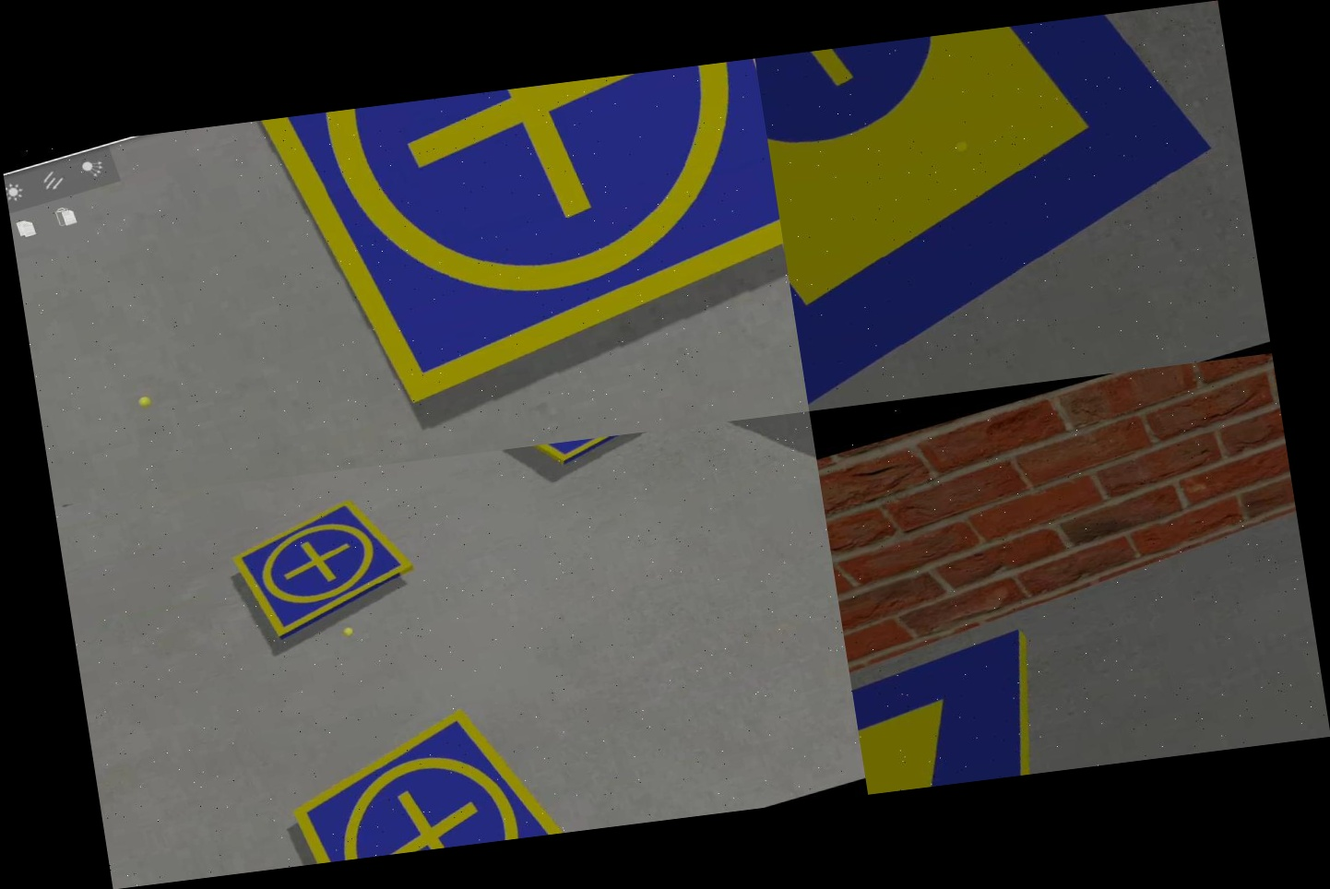large_base: (755, 1, 1267, 411), (846, 617, 1117, 794)
small_base: (251, 58, 802, 431), (268, 682, 586, 866), (220, 485, 431, 649), (488, 428, 682, 487)
